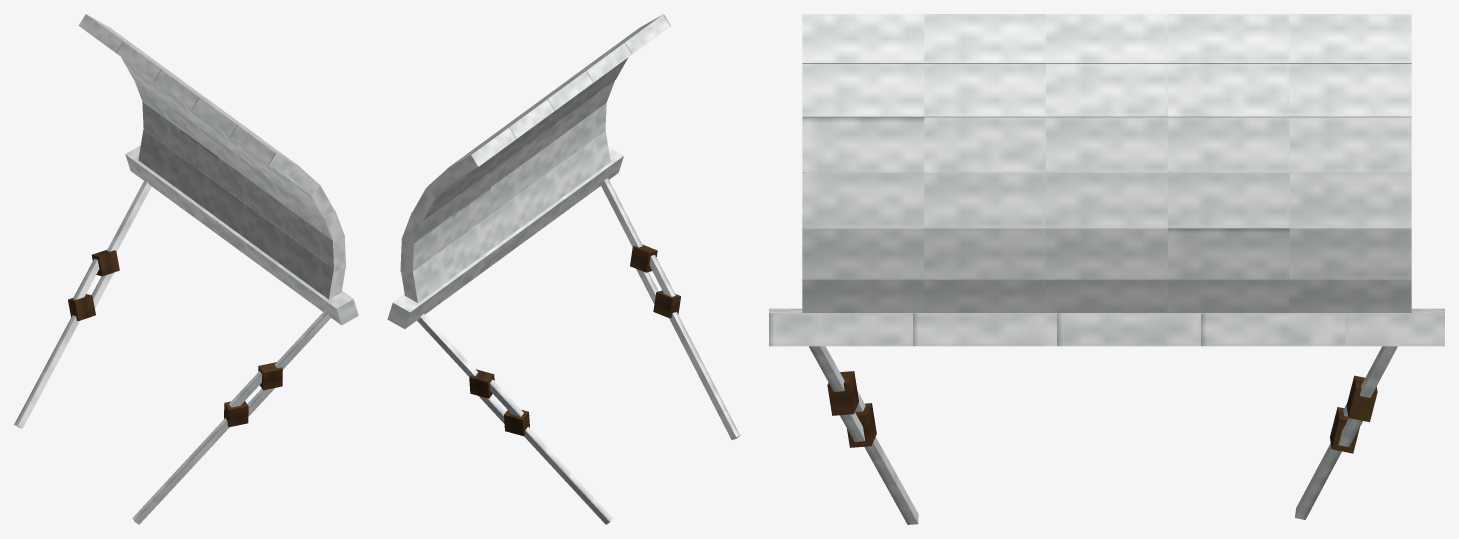
File: cog_segel_1_3.obj
3 views of the same model, side by side, from view 1: azimuth 30°, elevation 25°; view 2: azimuth 150°, elevation 25°; view 3: azimuth 270°, elevation 25° (orthographic). The views are drawn at different scales.
Parts seen in each view (by area): view 1: cube; view 2: cube; view 3: cube.
Boxes of the visible parts, bbox=[...] form: cube: bbox=[14, 14, 358, 524]; cube: bbox=[387, 14, 740, 524]; cube: bbox=[769, 14, 1444, 524].
Bounding box in the file's own units: 1.88 × 3.69 × 3.81.
